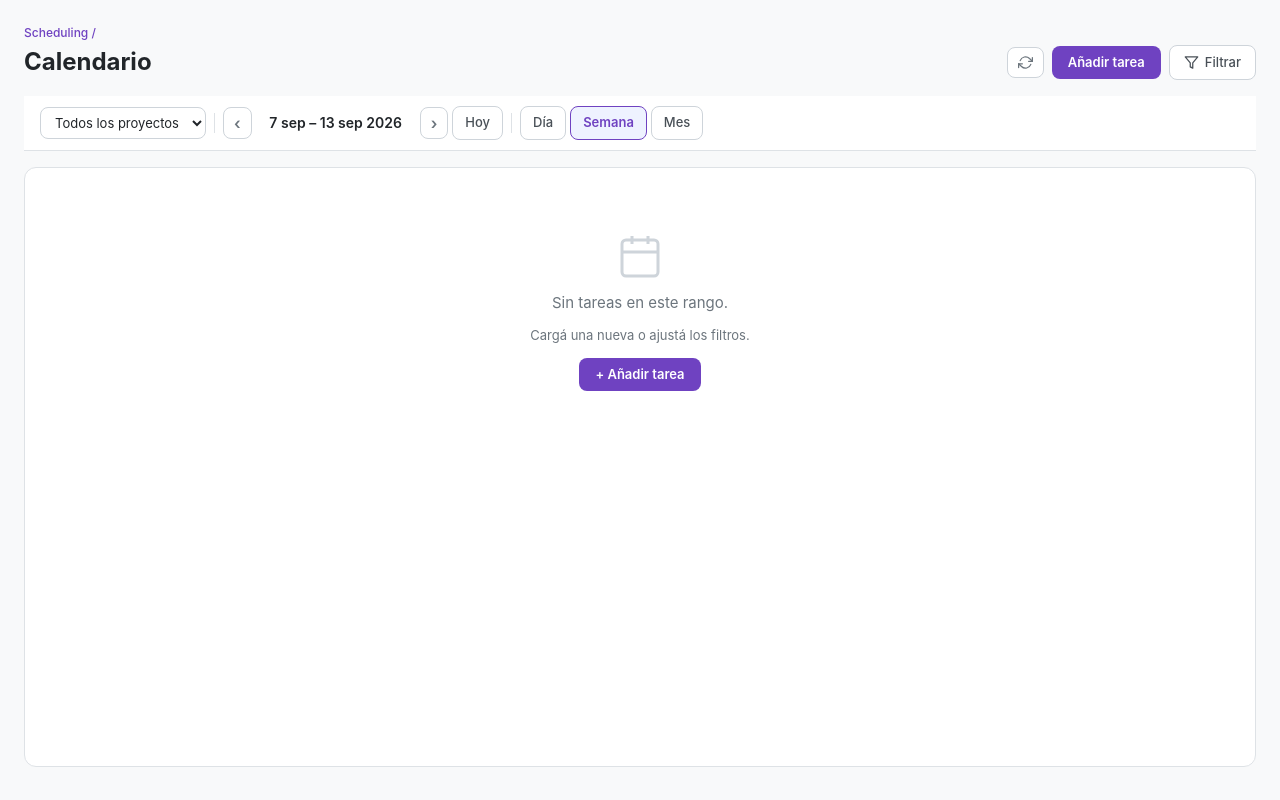
Test: SchedulingCalendarPage — URL state (REQ-URL-SYNC) › filter panel opens on clicking Filtrar
This screenshot has width=1280, height=800.
Click the button "Filtrar" at (1212, 62), box 1169,44 -> 1256,80
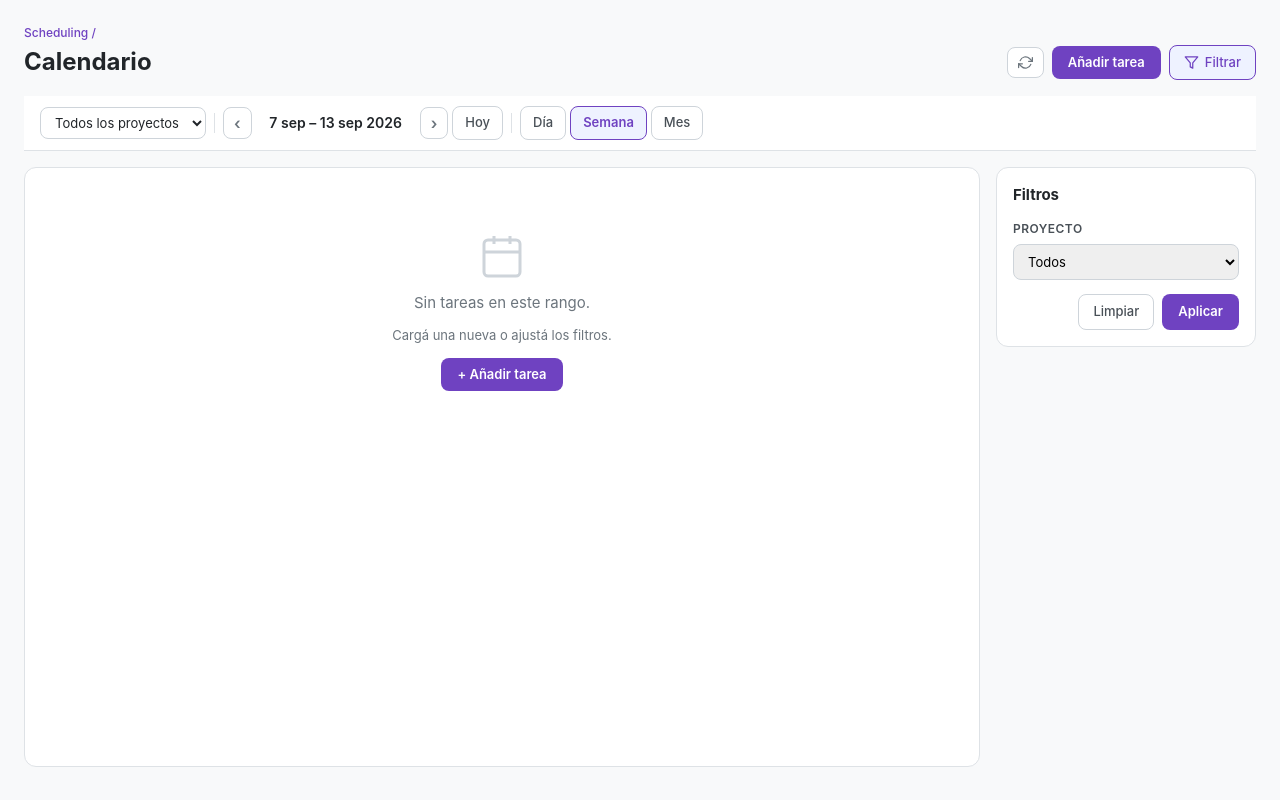
Expected: the heading "Filtros" is shown, 1013,184 -> 1059,204
